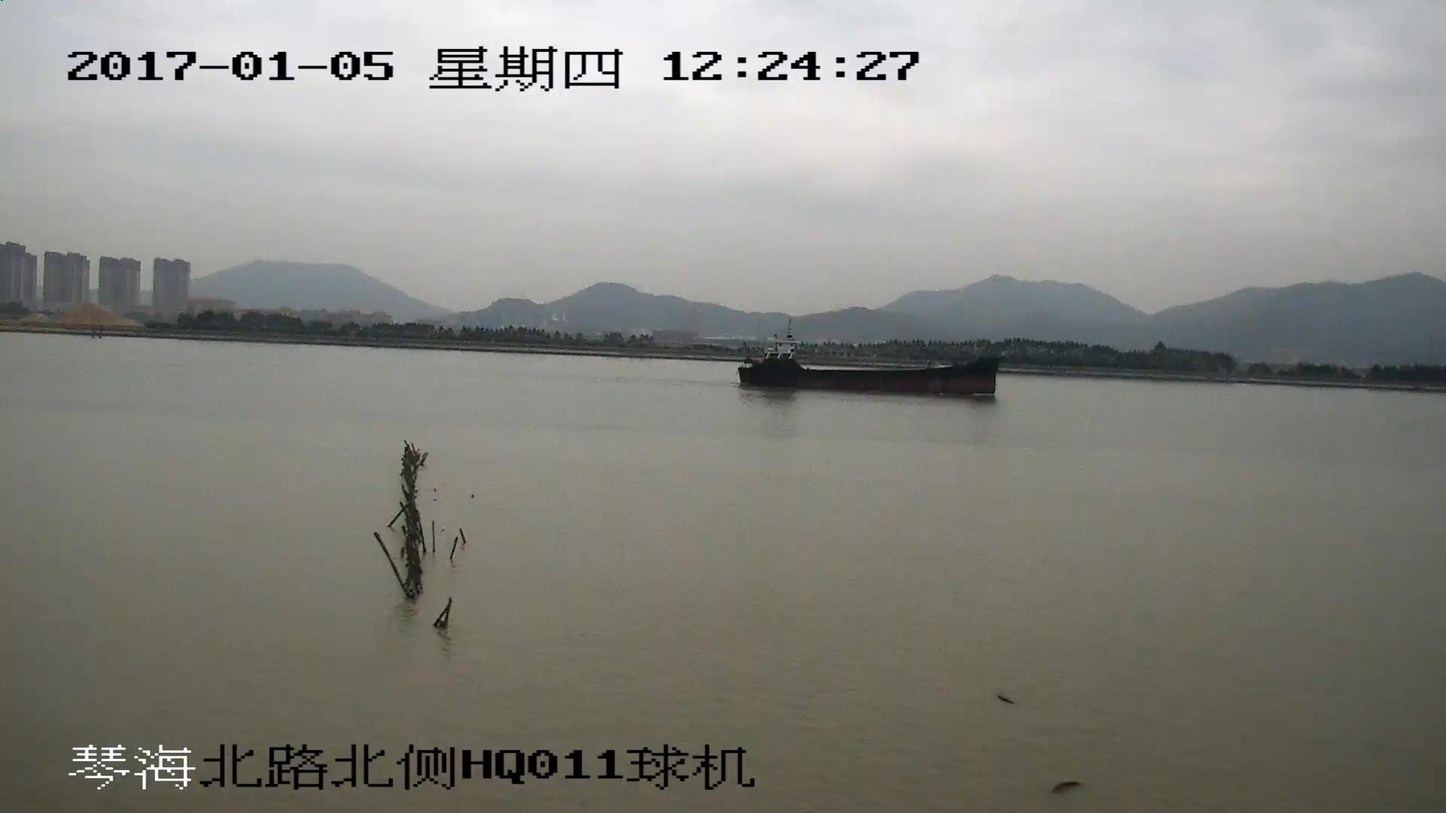general cargo ship: (737, 337, 1002, 395)
